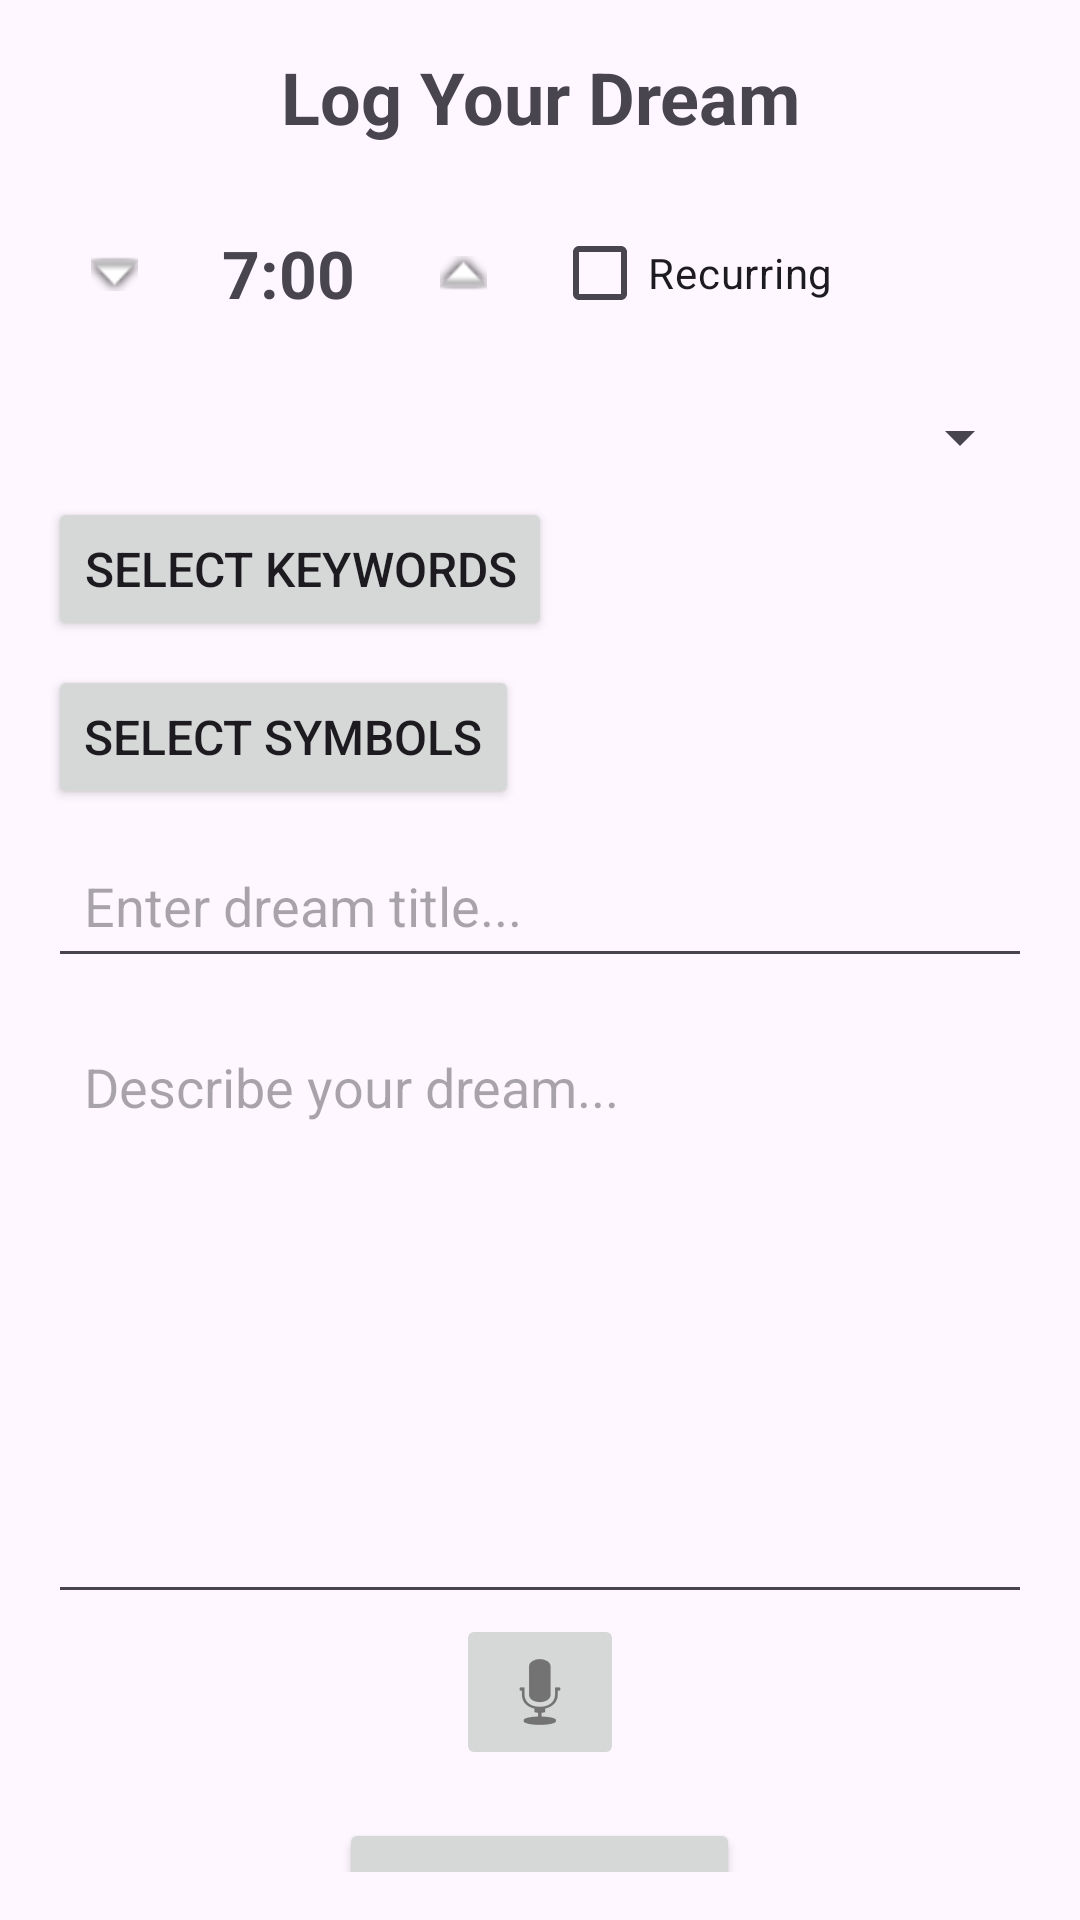

Screen size 1080 × 1920. Icon name, then its box in pixels as {"x1": x1, "y1": y1, "x2": x2, "y2": y2}:
arrow down float: {"x1": 91, "y1": 258, "x2": 138, "y2": 290}
arrow up float: {"x1": 440, "y1": 257, "x2": 487, "y2": 289}
Start voice input: {"x1": 468, "y1": 1632, "x2": 612, "y2": 1752}
